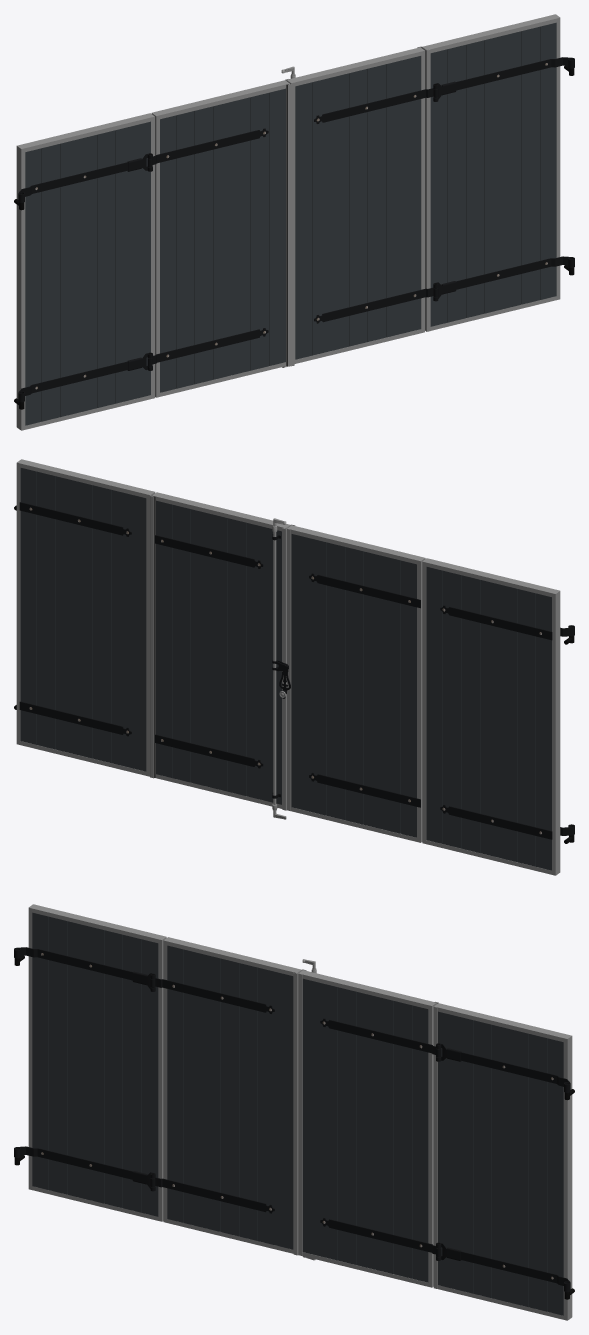
The picture shows the model from 3 angles, top to bottom: view 1: azimuth 30°, elevation 25°; view 2: azimuth 150°, elevation 25°; view 3: azimuth 330°, elevation 25°; orthographic projection.
Visible parts, largest first — view 1: Box003, Box001, Box004, Box005, Rectangle078, Rectangle075, Rectangle077, Rectangle076, Line003, Line006, Plane004, Plane003 (+7 smaller); view 2: Box004, Box001, Box005, Box003, Rectangle078, Rectangle075, Rectangle077, Line006, Line001, Rectangle076, Circle002, Plane013 (+8 smaller); view 3: Box001, Box003, Box005, Box004, Rectangle078, Rectangle077, Rectangle076, Rectangle075, Line003, Line006, Plane002, Plane001 (+6 smaller).
Part boxes in pixels (x1,y1,x2,y2): Box003: [295, 56, 420, 359]; Box001: [160, 88, 285, 392]; Box004: [430, 22, 556, 326]; Box005: [25, 121, 150, 425]; Rectangle078: [16, 113, 154, 430]; Rectangle075: [151, 80, 289, 397]; Rectangle077: [422, 14, 560, 330]; Rectangle076: [287, 47, 424, 363]; Line003: [286, 80, 295, 366]; Line006: [417, 46, 430, 331]; Plane004: [314, 287, 438, 323]; Plane003: [314, 88, 438, 123]; Box004: [20, 468, 146, 771]; Box001: [291, 534, 416, 837]; Box005: [426, 566, 551, 870]; Box003: [156, 500, 281, 804]; Rectangle078: [422, 558, 560, 875]; Rectangle075: [287, 525, 425, 842]; Rectangle077: [16, 459, 154, 775]; Line006: [146, 492, 155, 778]; Line001: [282, 525, 291, 811]; Rectangle076: [152, 492, 289, 808]; Circle002: [273, 532, 276, 805]; Plane013: [19, 502, 131, 536]; Box001: [167, 945, 293, 1249]; Box003: [302, 978, 428, 1282]; Box005: [32, 912, 158, 1216]; Box004: [438, 1011, 563, 1315]; Rectangle078: [28, 904, 166, 1221]; Rectangle077: [434, 1003, 572, 1320]; Rectangle076: [299, 970, 436, 1287]; Rectangle075: [163, 937, 301, 1253]; Line003: [293, 972, 302, 1255]; Line006: [433, 1001, 438, 1288]; Plane002: [150, 1177, 274, 1213]; Plane001: [150, 978, 274, 1013].
Bounding box in the file's own units: 2870 × 1470 × 154.
6 materials, 3 textured.
